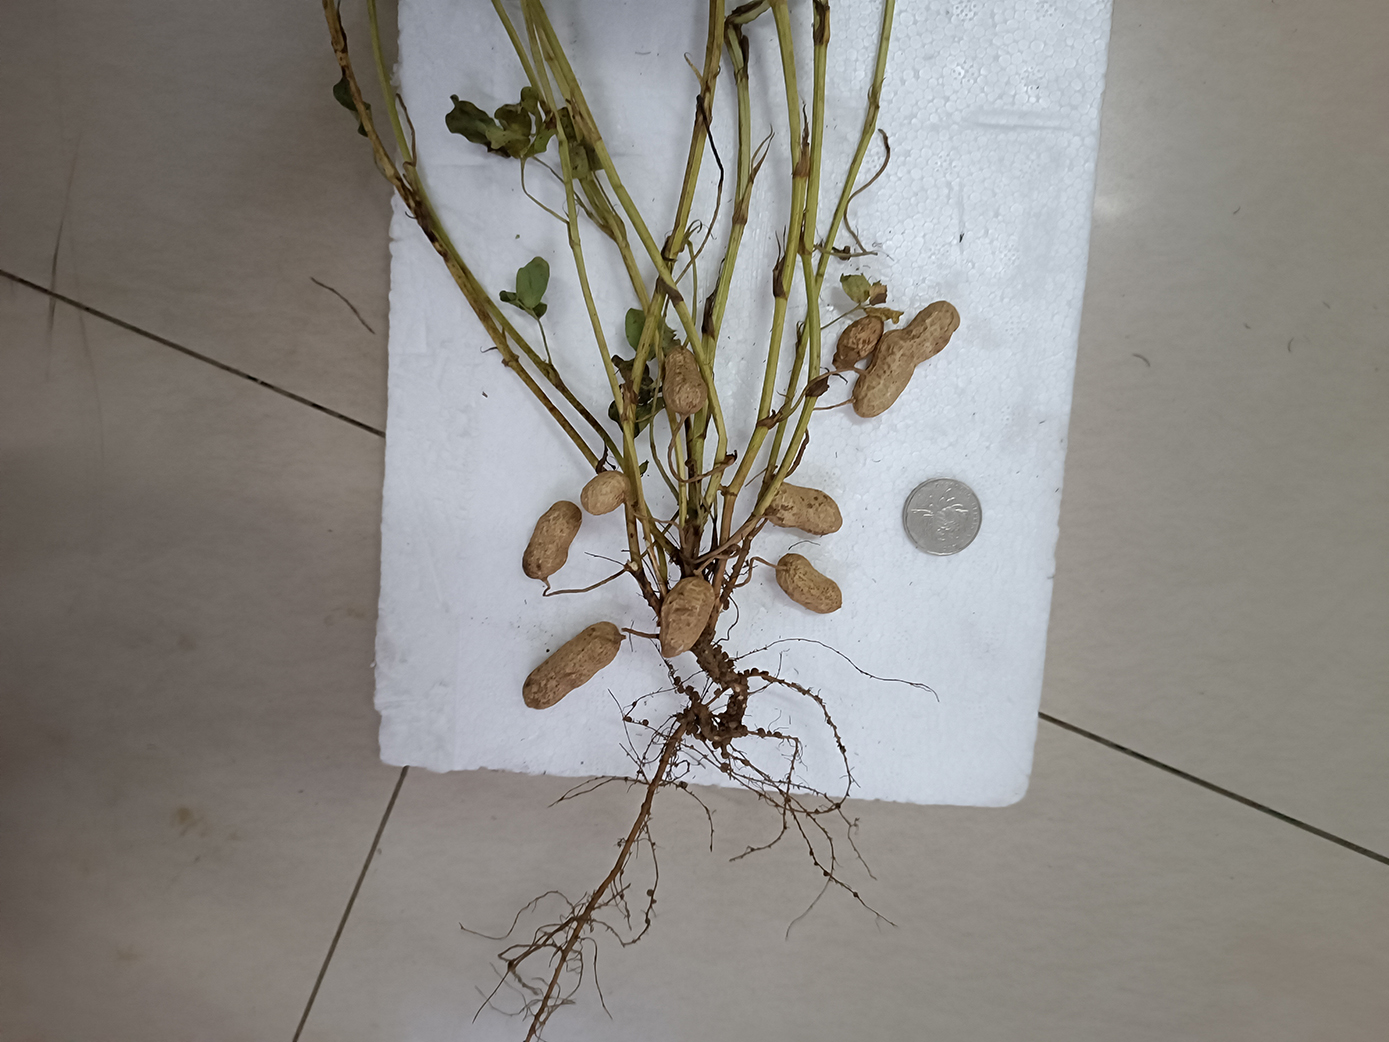h: (850, 301, 960, 417), (522, 618, 624, 710), (522, 498, 582, 580), (659, 576, 717, 656), (762, 483, 843, 535), (777, 553, 843, 615), (662, 346, 706, 416), (581, 468, 633, 516)
l: (831, 315, 884, 371)
